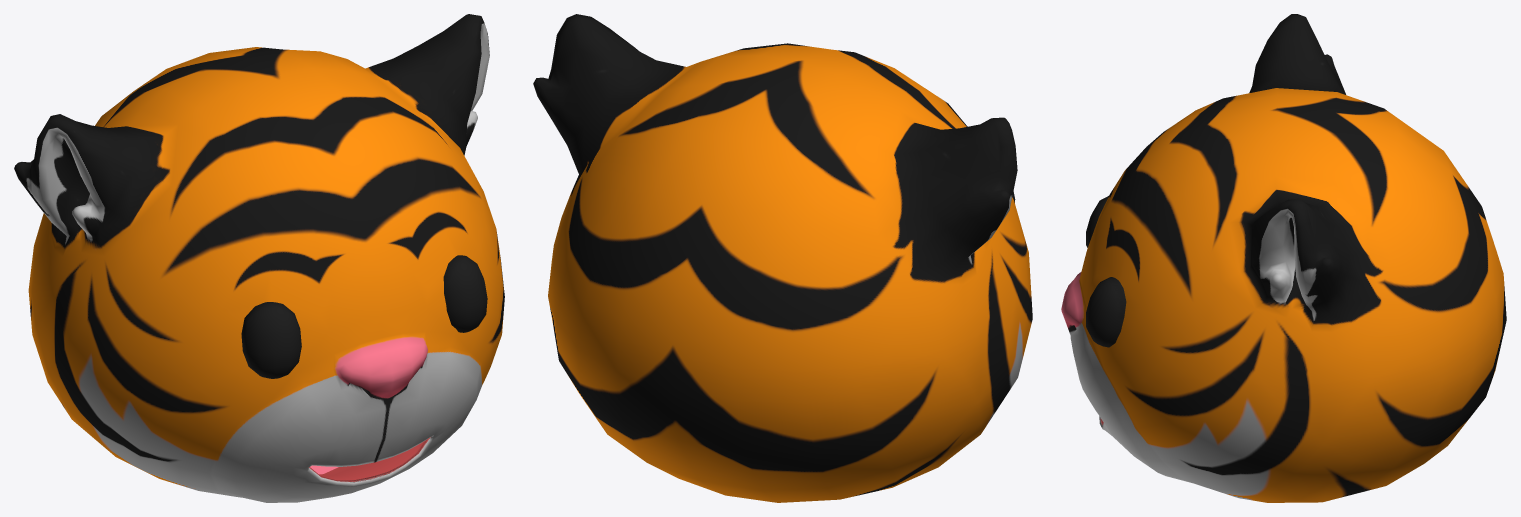
File: tiger.glb
The picture shows the model from 3 angles, left to right: view 1: azimuth 30°, elevation 25°; view 2: azimuth 150°, elevation 25°; view 3: azimuth 270°, elevation 25°; orthographic projection. The views are drawn at different scales.
Parts seen in each view (by area): view 1: TigerHead, TigerHead_TigerHead02_0.001; view 2: TigerHead; view 3: TigerHead, TigerHead_TigerHead02_0.001.
Part boxes in pixels (box(x1,y1,x2,y2)): TigerHead: box(14, 14, 504, 502); TigerHead_TigerHead02_0.001: box(443, 255, 487, 332); TigerHead: box(533, 14, 1032, 502); TigerHead: box(1061, 14, 1506, 502); TigerHead_TigerHead02_0.001: box(1086, 277, 1126, 347).
Size of the model in its own units: 47.68 by 39.04 by 42.99.
4 materials, 4 textured.
